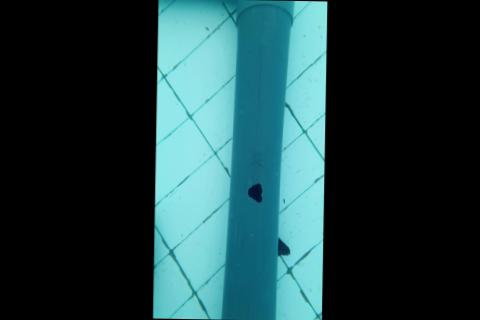kebocoran: (245, 182, 263, 205)
